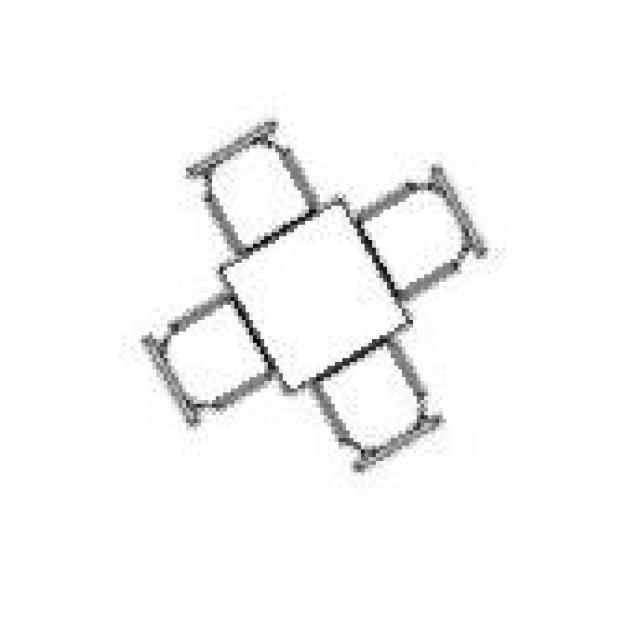table: (142, 107, 472, 464)
